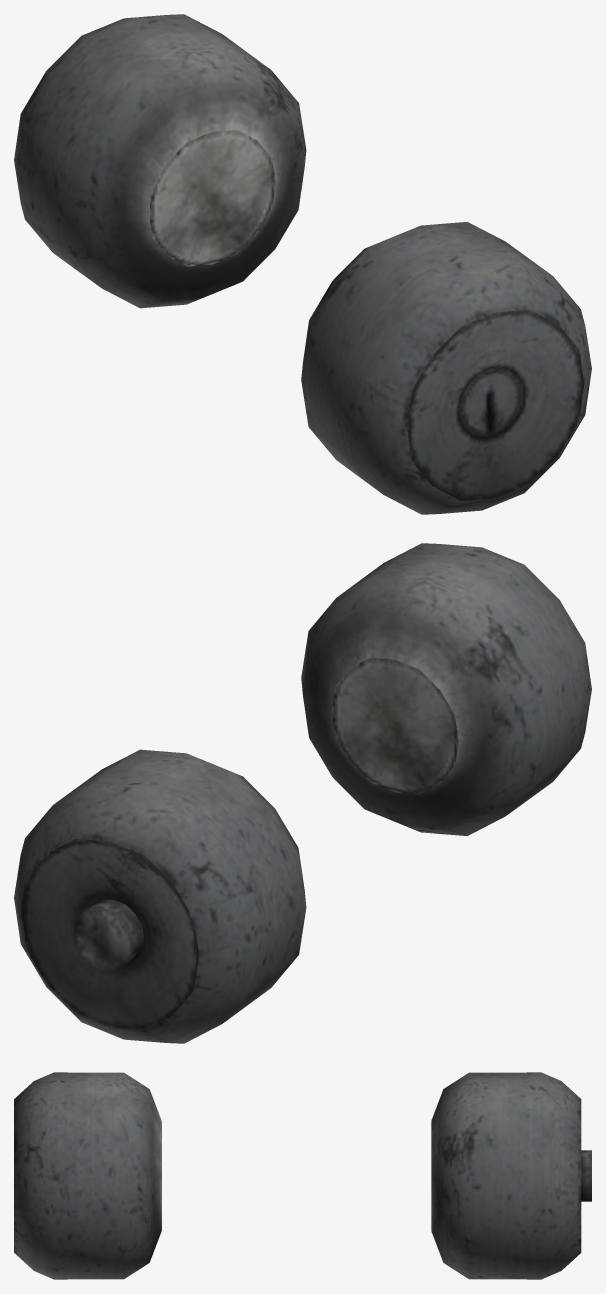
The model's file is doorHandle.FBX.
3 views of the same model, one above another, from view 1: azimuth 30°, elevation 25°; view 2: azimuth 150°, elevation 25°; view 3: azimuth 270°, elevation 25° (orthographic). The views are drawn at different scales.
Parts seen in each view (by area): view 1: SM_DoorKnobHandle; view 2: SM_DoorKnobHandle; view 3: SM_DoorKnobHandle.
Boxes of the visible parts, x1,y1,x2,y2 form: SM_DoorKnobHandle: (14, 14, 591, 514); SM_DoorKnobHandle: (14, 543, 591, 1043); SM_DoorKnobHandle: (14, 1072, 591, 1279).
Size of the model in its own units: 7.61 by 7.61 by 21.56.
Materials: 1 (1 with a texture image).
